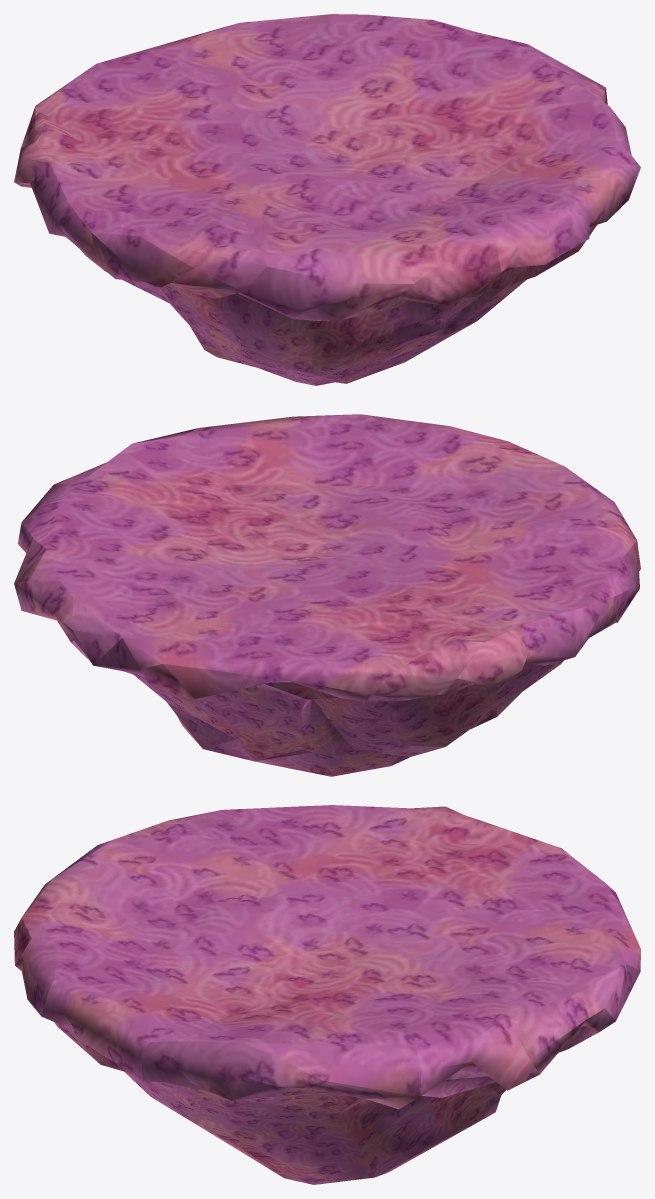
File: Floating_Island_01_Art.glb
3 renders of one model, top to bottom at view 1: azimuth 30°, elevation 25°; view 2: azimuth 150°, elevation 25°; view 3: azimuth 270°, elevation 25°, orthographic.
Parts seen in each view (by area): view 1: Floating_Island_01_Art; view 2: Floating_Island_01_Art; view 3: Floating_Island_01_Art.
Part boxes in pixels (box(x1,y1,x2,y2)): Floating_Island_01_Art: box(14, 14, 640, 385); Floating_Island_01_Art: box(14, 414, 640, 776); Floating_Island_01_Art: box(14, 805, 640, 1184).
Size of the model in its own units: 14.79 by 5.6 by 14.49.
1 material, 1 textured.
